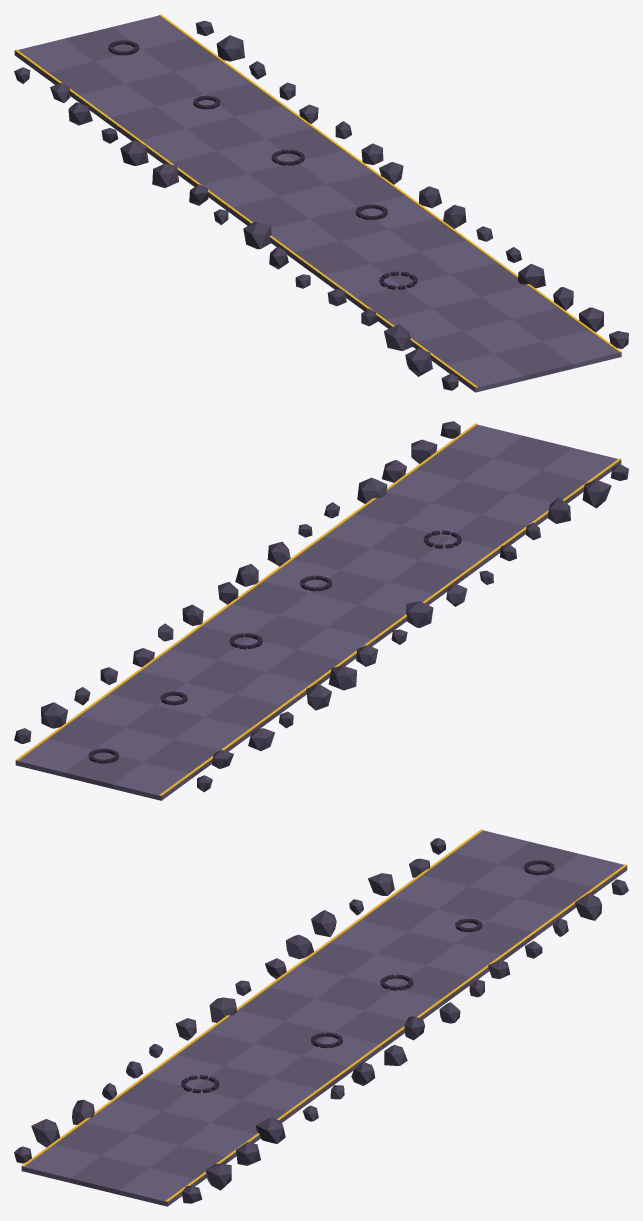
The model's file is espacio_Suelo.glb.
3 renders of one model, top to bottom at view 1: azimuth 30°, elevation 25°; view 2: azimuth 150°, elevation 25°; view 3: azimuth 330°, elevation 25°, orthographic.
Parts seen in each view (by area): view 1: Mapa_espacio_Suelo; view 2: Mapa_espacio_Suelo; view 3: Mapa_espacio_Suelo.
Part boxes in pixels (<box>): Mapa_espacio_Suelo: <box>14,14,628,392</box>; Mapa_espacio_Suelo: <box>14,421,628,800</box>; Mapa_espacio_Suelo: <box>14,829,628,1206</box>.
Size of the model in its own units: 91.92 by 13.75 by 360.
1 material, 1 textured.
